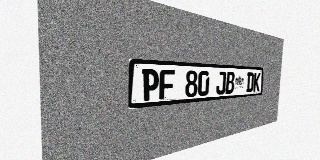0: (197, 71, 210, 96)
8: (185, 70, 198, 97)
B: (225, 72, 235, 94)
D: (246, 72, 254, 92)
F: (159, 69, 175, 100)
J: (216, 71, 226, 95)
K: (253, 72, 260, 92)
P: (141, 69, 159, 101)
